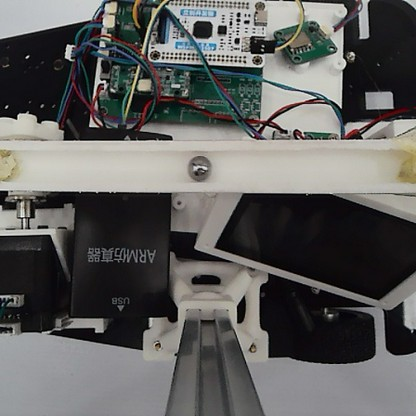ironball: (184, 152, 213, 183)
